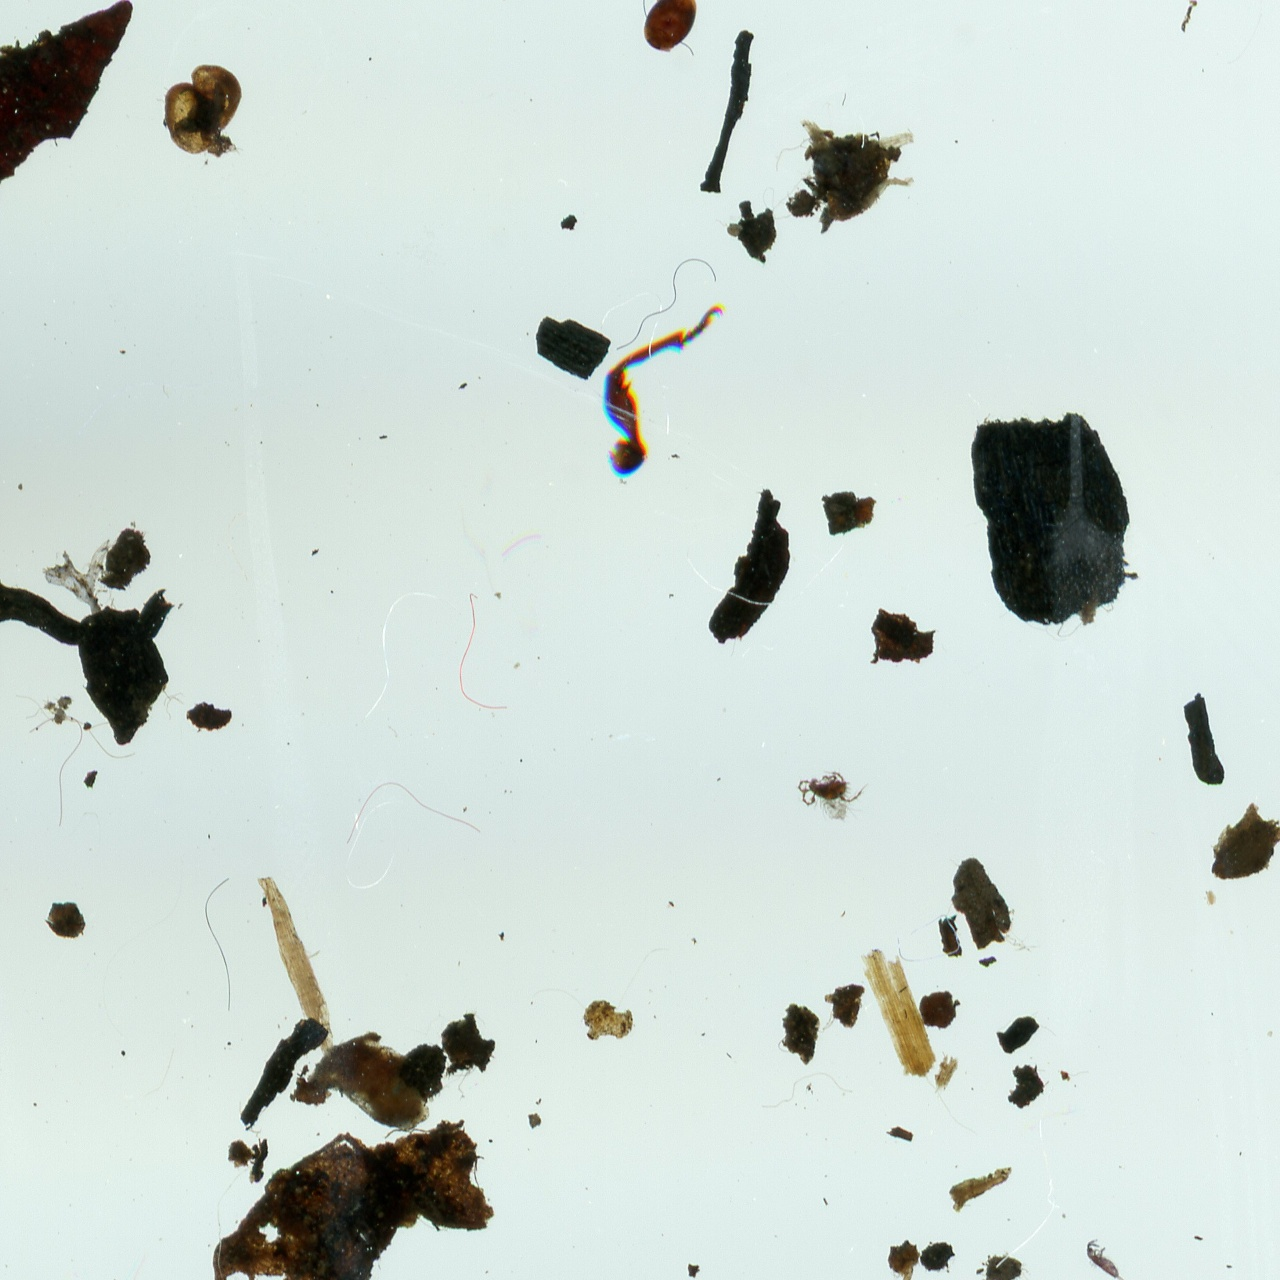arthropod: (792, 767, 870, 825), (1074, 1232, 1146, 1280), (644, 0, 697, 53)
